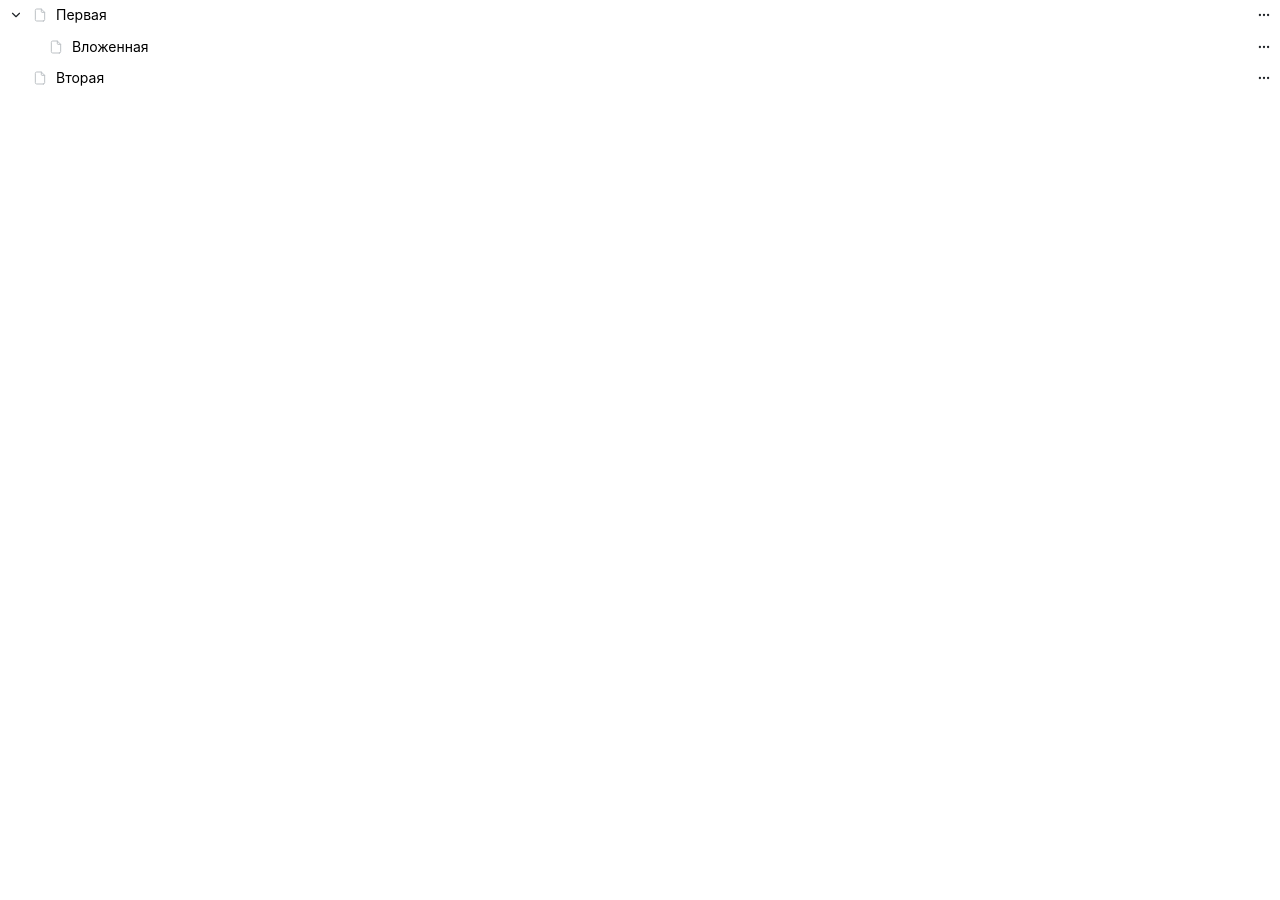
Scenario: сценарий переноса целиком › пункт меню открывает окно выбора родителя
Expected: the text "На верхний уровень" is not shown
Click the button named "Действия: Вторая". click: (1264, 78)
box: 1254,68 -> 1274,88
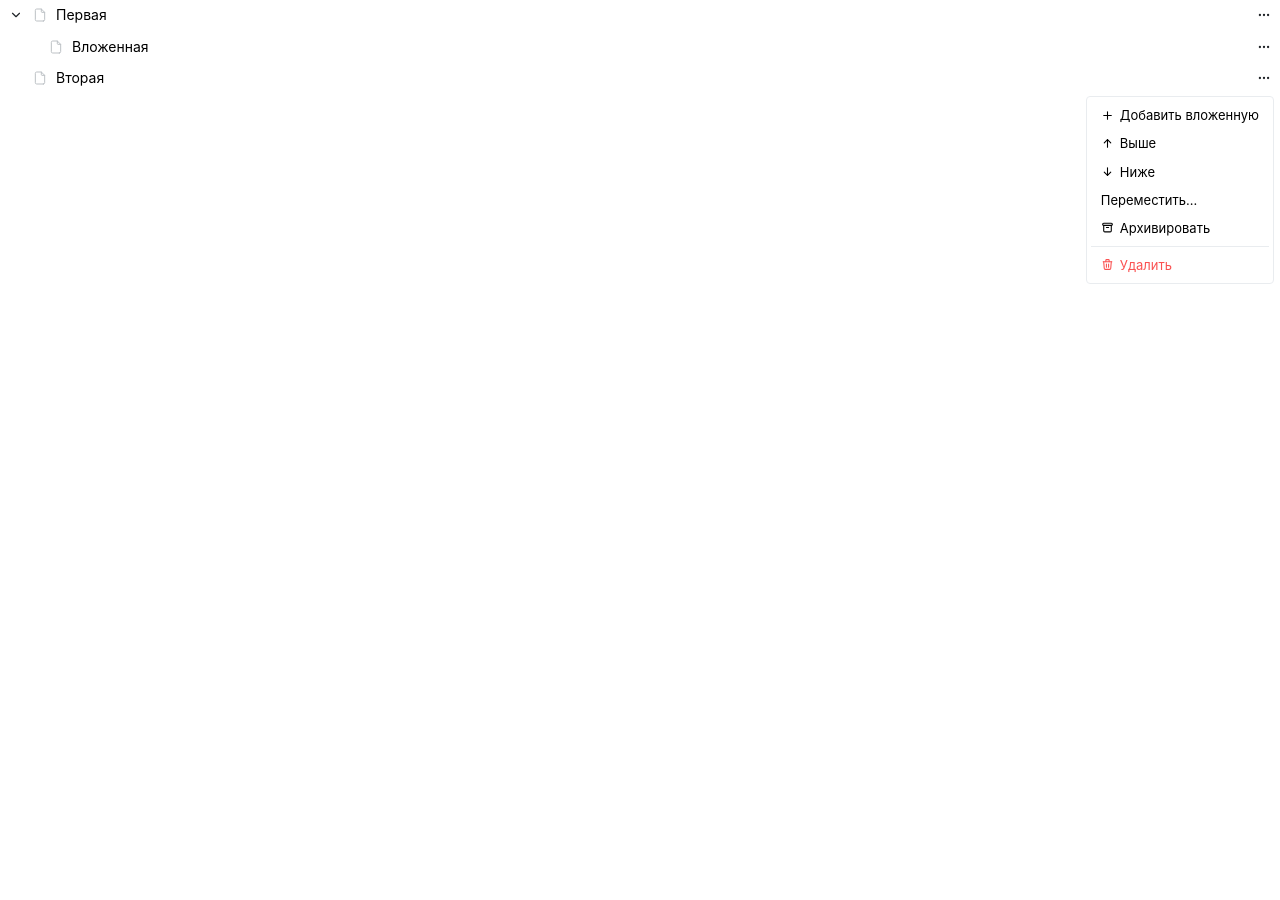
Click the menu item "Переместить…". click: (1180, 200)
box: 1091,186 -> 1269,214
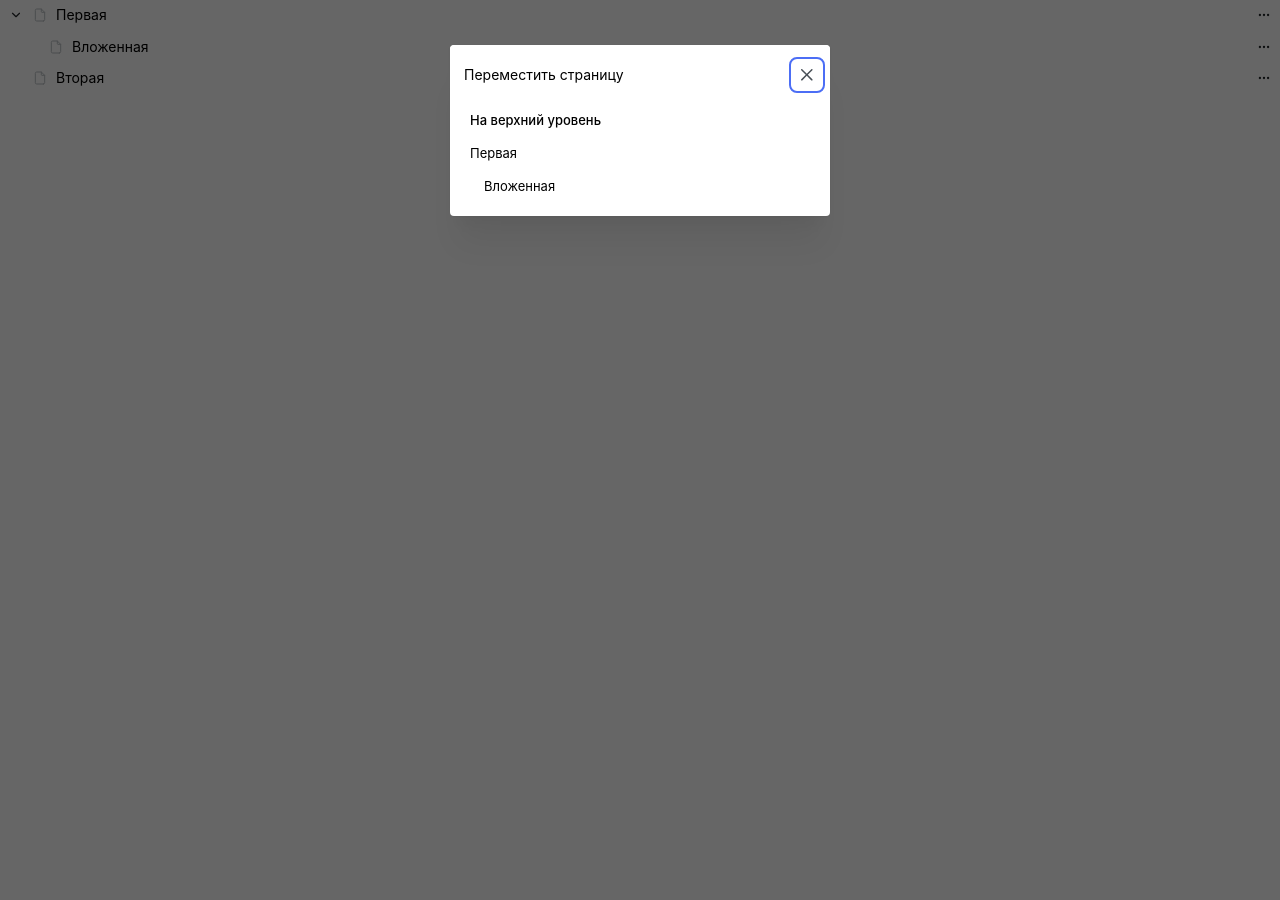
Now the text "На верхний уровень" is shown, box 470,112 -> 601,128
